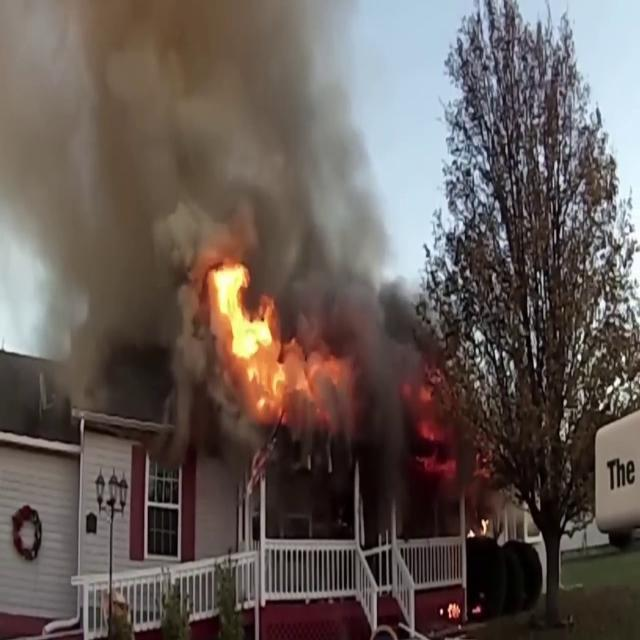Fire: (205, 253, 297, 411)
Smoke: (0, 0, 418, 412)
